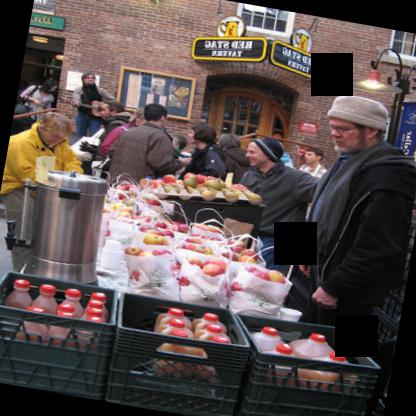handbag: (13, 99, 29, 124)
